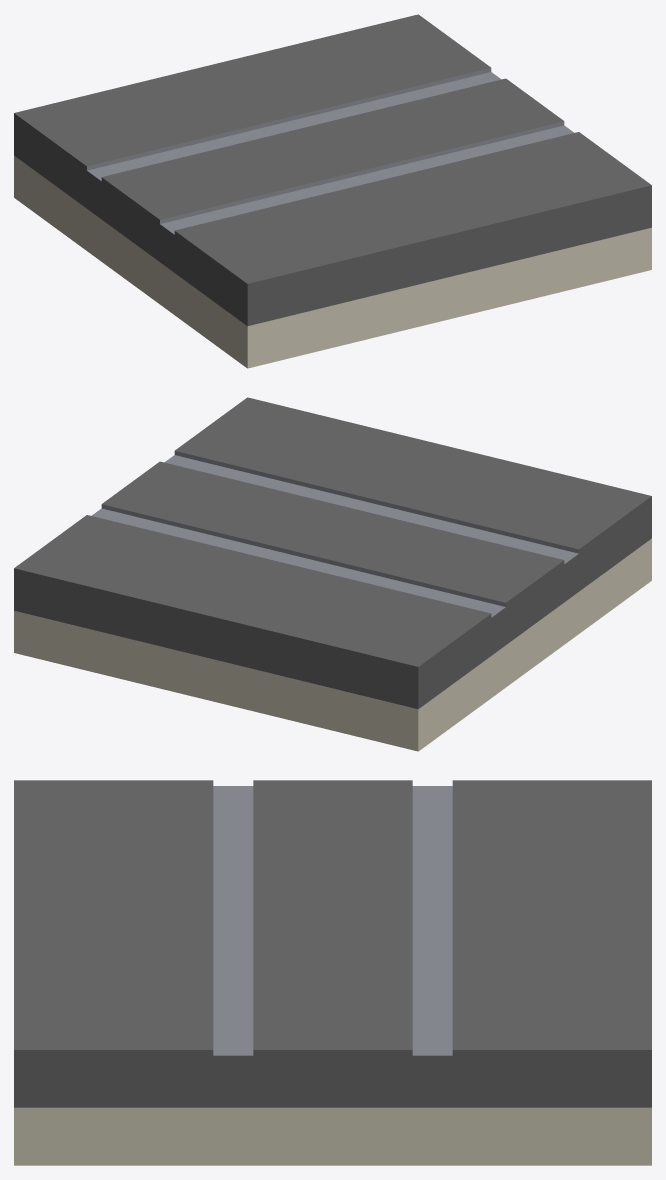
File: roadTile_104.fbx
3 views of the same model, one above another, from view 1: azimuth 30°, elevation 25°; view 2: azimuth 150°, elevation 25°; view 3: azimuth 270°, elevation 25° (orthographic). The views are drawn at different scales.
Visible parts, largest first — view 1: roadTile_104; view 2: roadTile_104; view 3: roadTile_104.
Part boxes in pixels (x1,y1,x2,y2): roadTile_104: [14, 14, 651, 368]; roadTile_104: [14, 397, 651, 751]; roadTile_104: [14, 780, 651, 1165].
Size of the model in its own units: 118 by 23.62 by 118.
